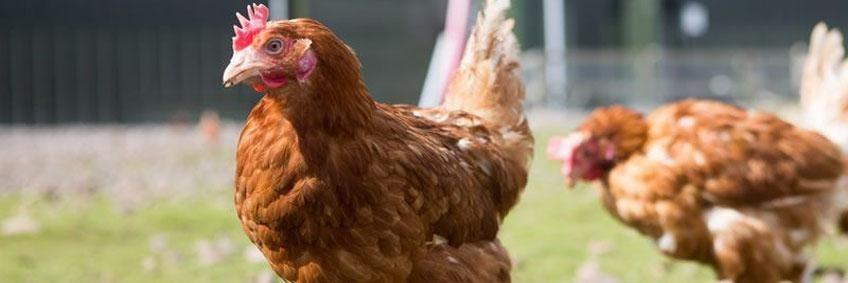AbNormal: (232, 1, 271, 48)
